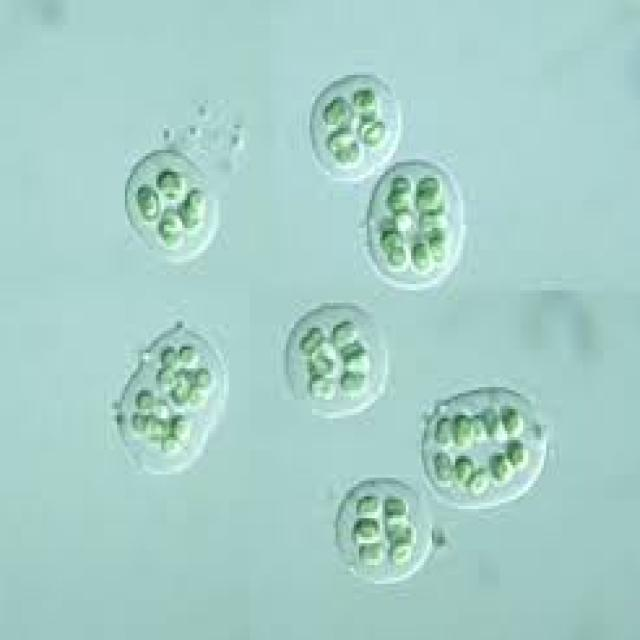Blue Green Algae: (174, 187, 206, 228), (156, 206, 182, 250), (349, 515, 385, 546), (132, 181, 158, 222), (153, 169, 184, 203), (362, 112, 392, 147), (323, 94, 351, 131), (307, 372, 338, 402), (385, 184, 414, 216), (330, 318, 359, 349), (482, 406, 508, 440), (322, 125, 357, 150), (338, 368, 369, 396), (385, 518, 416, 546), (357, 540, 388, 568), (432, 450, 455, 487), (343, 346, 372, 374), (500, 406, 526, 437), (299, 322, 325, 352), (507, 441, 531, 472), (427, 231, 450, 262), (177, 341, 200, 372), (385, 244, 414, 268), (336, 140, 362, 166), (382, 496, 408, 522), (349, 88, 377, 112), (411, 240, 432, 272), (169, 378, 193, 406), (452, 453, 473, 484), (172, 416, 195, 444), (468, 416, 489, 446), (453, 412, 471, 447), (432, 416, 453, 446), (489, 450, 510, 480), (388, 543, 413, 568), (159, 341, 182, 368), (156, 362, 177, 390), (146, 415, 169, 440), (133, 387, 156, 409), (354, 493, 377, 515), (417, 191, 442, 209), (130, 412, 148, 434)
